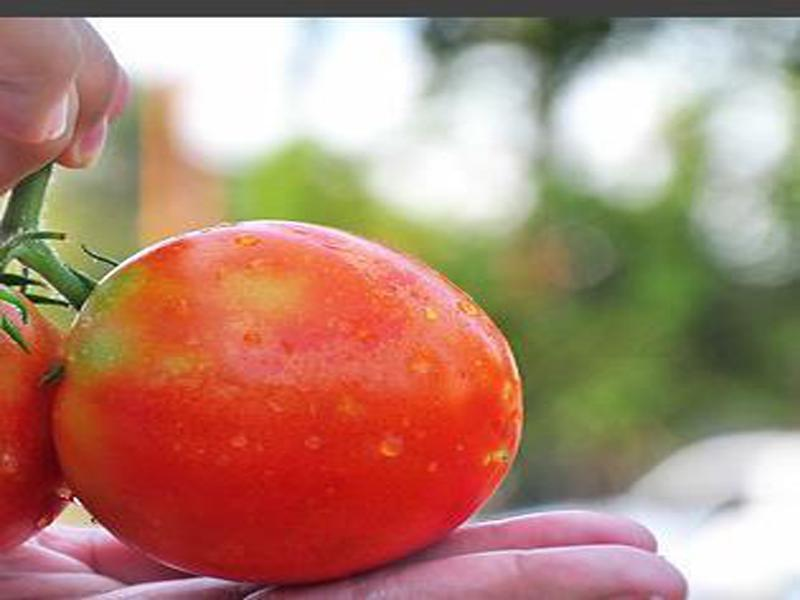Tomato: (56, 219, 521, 581)
